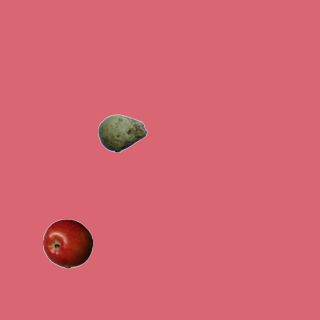Apple Braeburn: (42, 218, 92, 268)
Pear Stone: (97, 108, 147, 158)
